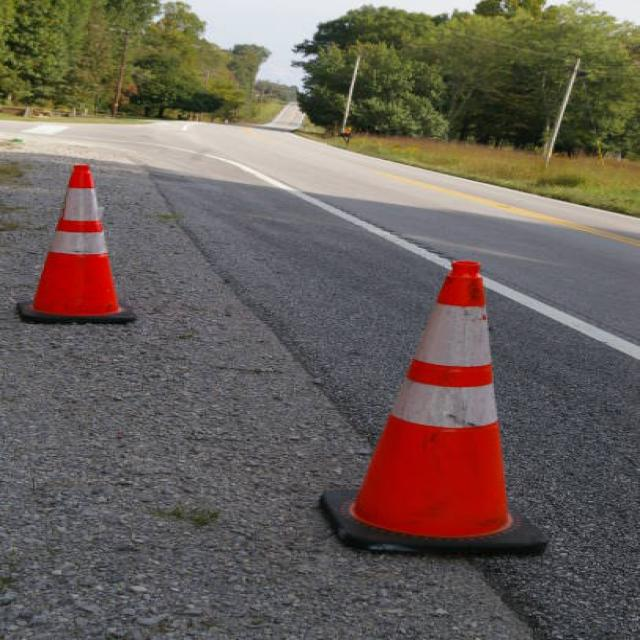Traffic Cone: (296, 232, 579, 589), (0, 135, 175, 357)
